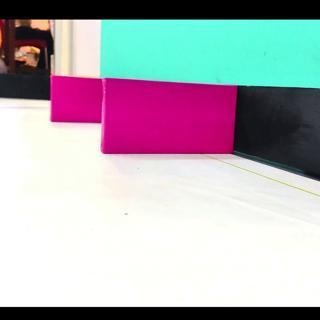xparking: (102, 80, 239, 153), (52, 79, 102, 123)
